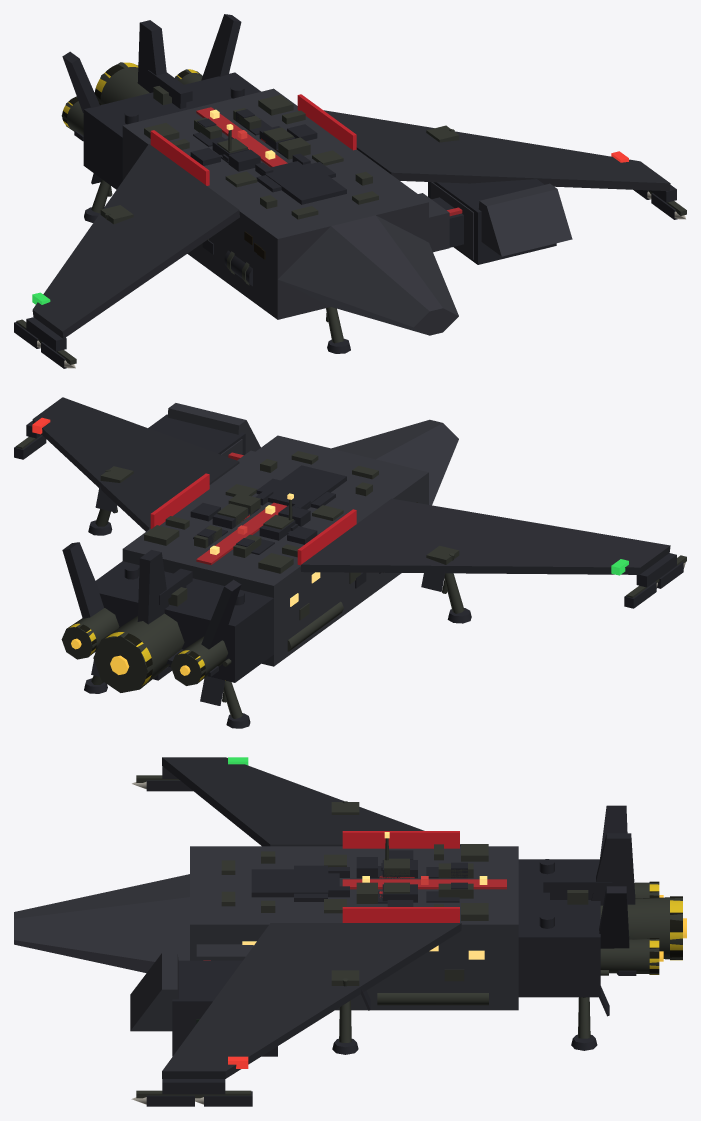
Rendered from runner-l.glb.
3 views of the same model, one above another, from view 1: azimuth 30°, elevation 25°; view 2: azimuth 150°, elevation 25°; view 3: azimuth 270°, elevation 25° (orthographic). The views are drawn at different scales.
Parts seen in each view (by area): view 1: hullMain, wingLeft, hullForebody, wingRight, aftPlug, bridgeNoseCap, hullNose, noseSensor, stabilizerVert, stabilizerFinR, engineHousing, synDecalR (+9 smaller); view 2: hullMain, wingLeft, wingRight, aftPlug, engineHousing (×3), hullForebody, noseSensor, hullNose, stabilizerVert, stabilizerFinR, bridgeNoseCap, stabilizerFinL (+9 smaller); view 3: hullMain, wingRight, hullForebody, wingLeft, aftPlug, engineHousing (×2), hullNose, bridgeNoseCap, noseSensor, synDecalL, stabilizerVert, synDecalR (+8 smaller).
Boxes of the visible parts, box(x1,y1,x2,y2) form: hullMain: box(122, 88, 428, 319); wingLeft: box(32, 144, 239, 338); hullForebody: box(278, 215, 458, 335); wingRight: box(324, 110, 670, 190); aftPlug: box(83, 72, 260, 189); bridgeNoseCap: box(478, 183, 572, 256); hullNose: box(428, 179, 556, 264); noseSensor: box(260, 161, 346, 204); stabilizerVert: box(137, 20, 166, 92); stabilizerFinR: box(201, 14, 241, 80); engineHousing: box(96, 62, 149, 104); synDecalR: box(297, 94, 356, 150); hullMain: box(122, 435, 428, 666); wingLeft: box(300, 498, 670, 574); wingRight: box(32, 397, 239, 531); aftPlug: box(95, 561, 273, 682); engineHousing (×3): box(61, 608, 227, 692); hullForebody: box(331, 419, 458, 505); noseSensor: box(268, 465, 346, 509); hullNose: box(148, 414, 245, 455); stabilizerVert: box(137, 550, 168, 624); stabilizerFinR: box(62, 542, 103, 618); bridgeNoseCap: box(167, 403, 260, 453); stabilizerFinL: box(201, 579, 241, 649); hullMain: box(190, 846, 518, 1010); wingRight: box(162, 923, 461, 1078); hullForebody: box(14, 874, 189, 972); wingLeft: box(162, 757, 460, 846); aftPlug: box(518, 859, 600, 997); engineHousing (×2): box(600, 897, 682, 974); hullNose: box(172, 960, 277, 1056); bridgeNoseCap: box(130, 953, 178, 1031); noseSensor: box(251, 869, 339, 897); synDecalL: box(342, 831, 459, 848); stabilizerVert: box(591, 833, 635, 905); synDecalR: box(342, 907, 459, 922).
Size of the model in its own units: 5.95 by 1.7 by 5.28.
